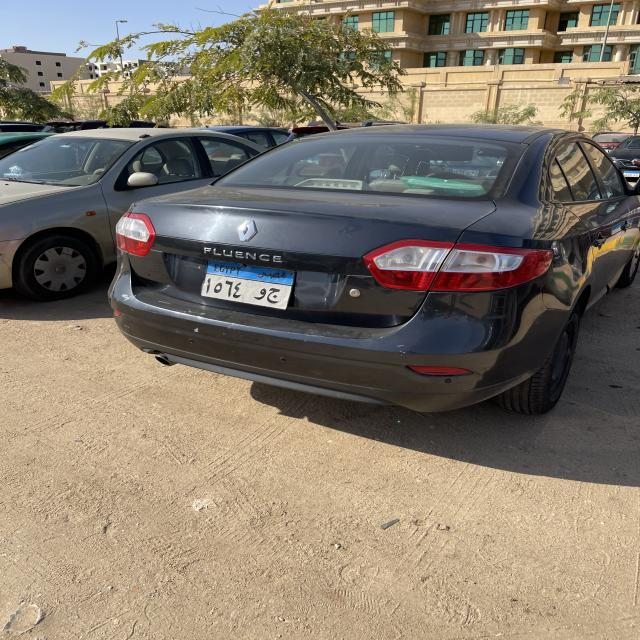License Plate: (200, 260, 297, 310)
